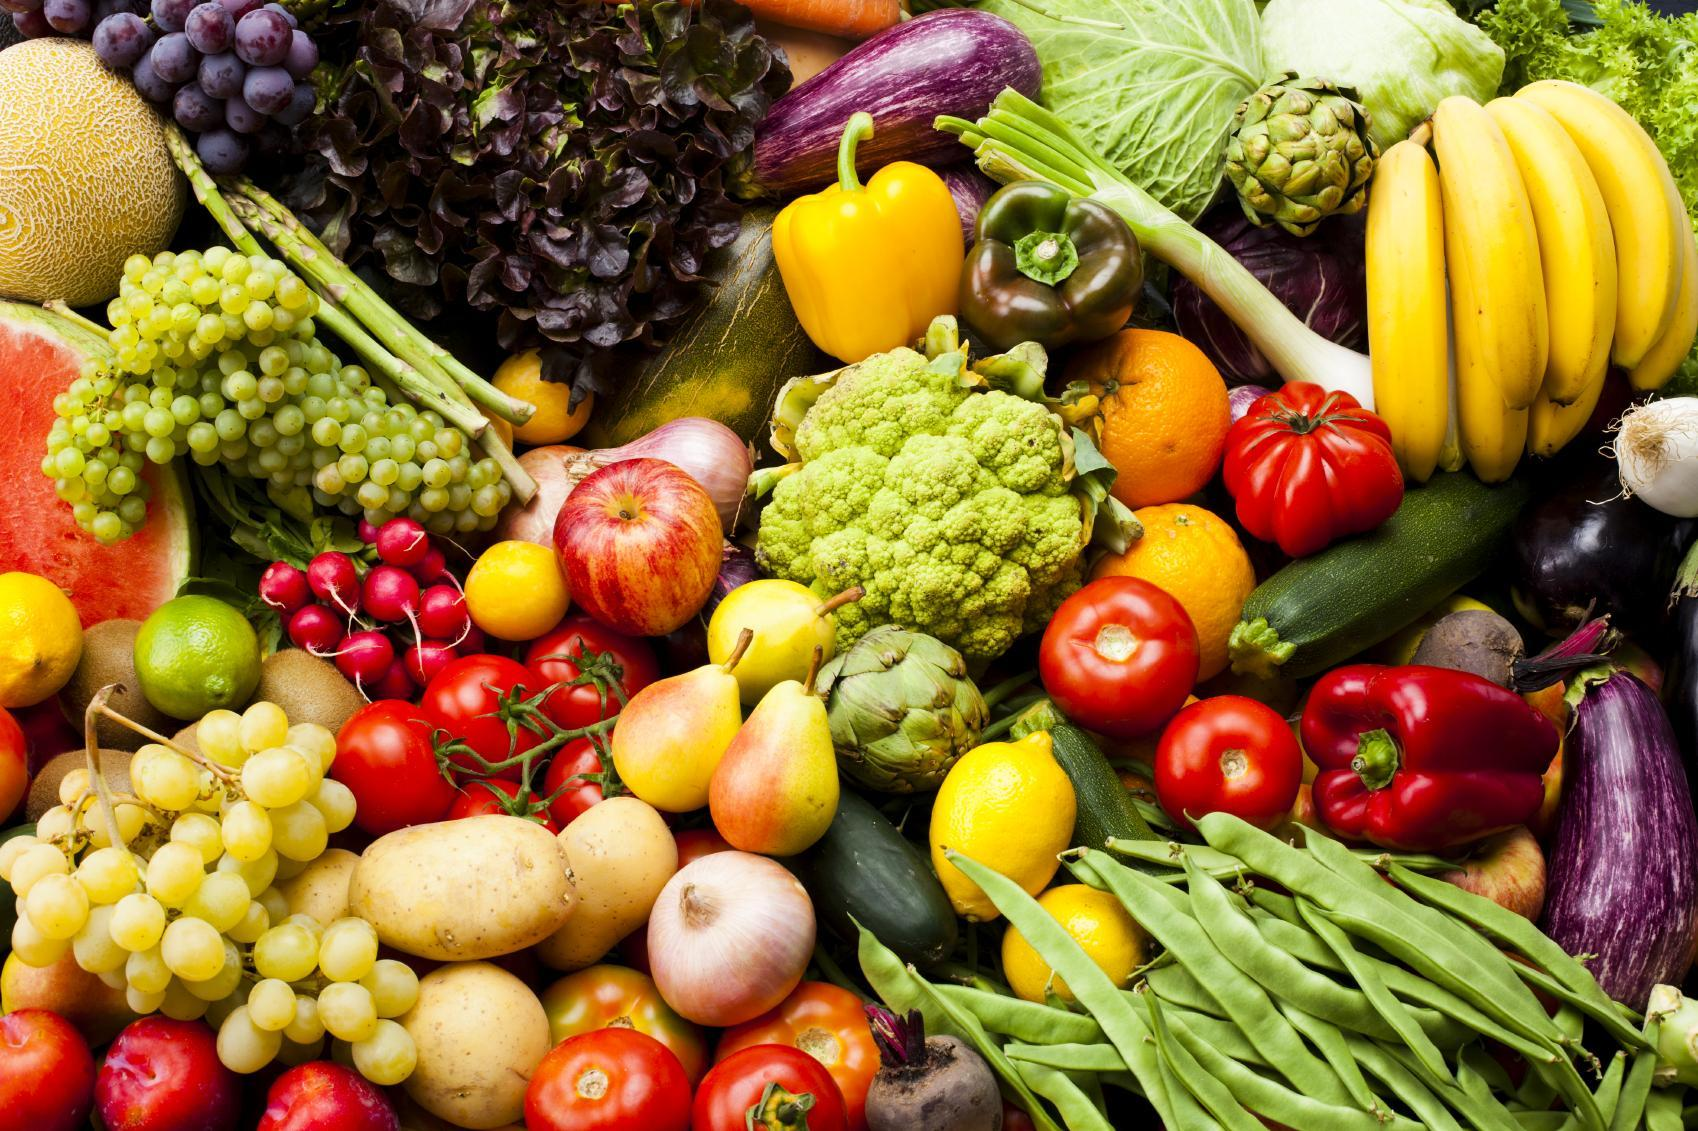apple: (554, 457, 720, 631)
